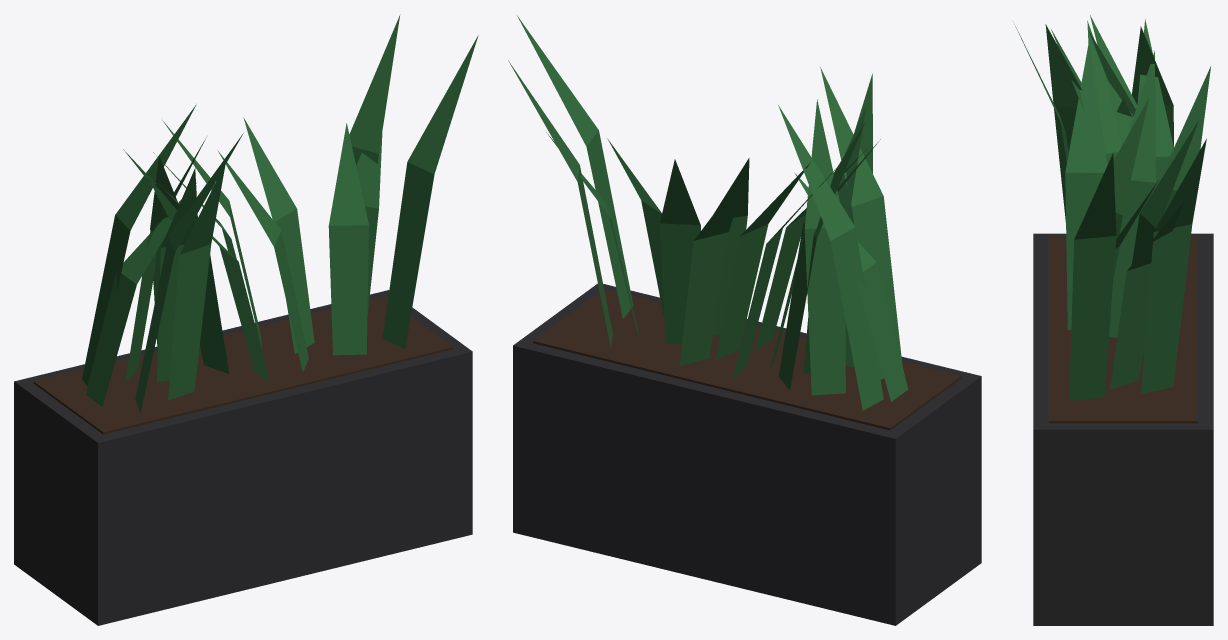
File: ENT_Jardineira.glb
The picture shows the model from 3 angles, left to right: view 1: azimuth 30°, elevation 25°; view 2: azimuth 150°, elevation 25°; view 3: azimuth 270°, elevation 25°; orthographic projection. The views are drawn at different scales.
Parts seen in each view (by area): view 1: ENT_Jardineira; view 2: ENT_Jardineira; view 3: ENT_Jardineira.
Boxes of the visible parts, x1,y1,x2,y2 form: ENT_Jardineira: (14, 14, 478, 625); ENT_Jardineira: (508, 15, 981, 625); ENT_Jardineira: (1013, 15, 1213, 625).
Size of the model in its own units: 1 by 1.06 by 0.3942.
